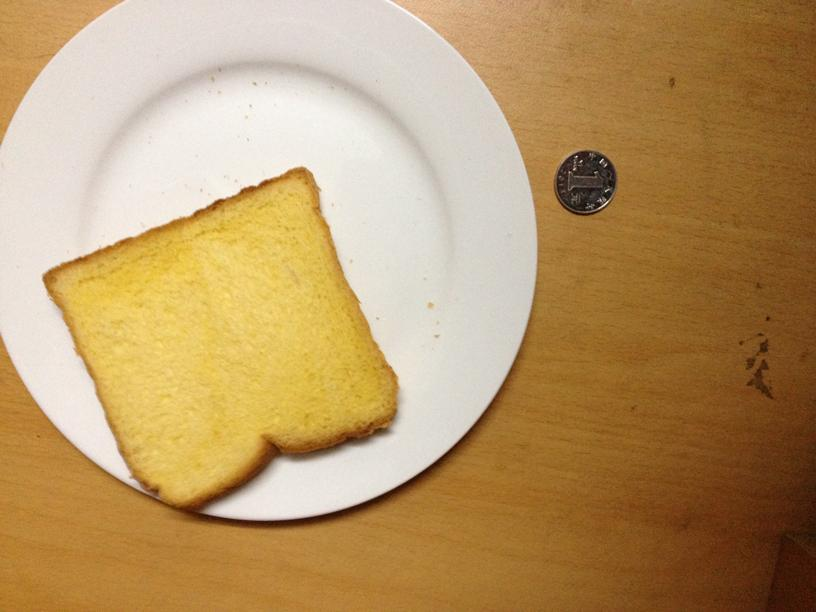bread: (37, 170, 398, 506)
coin: (550, 148, 620, 214)
